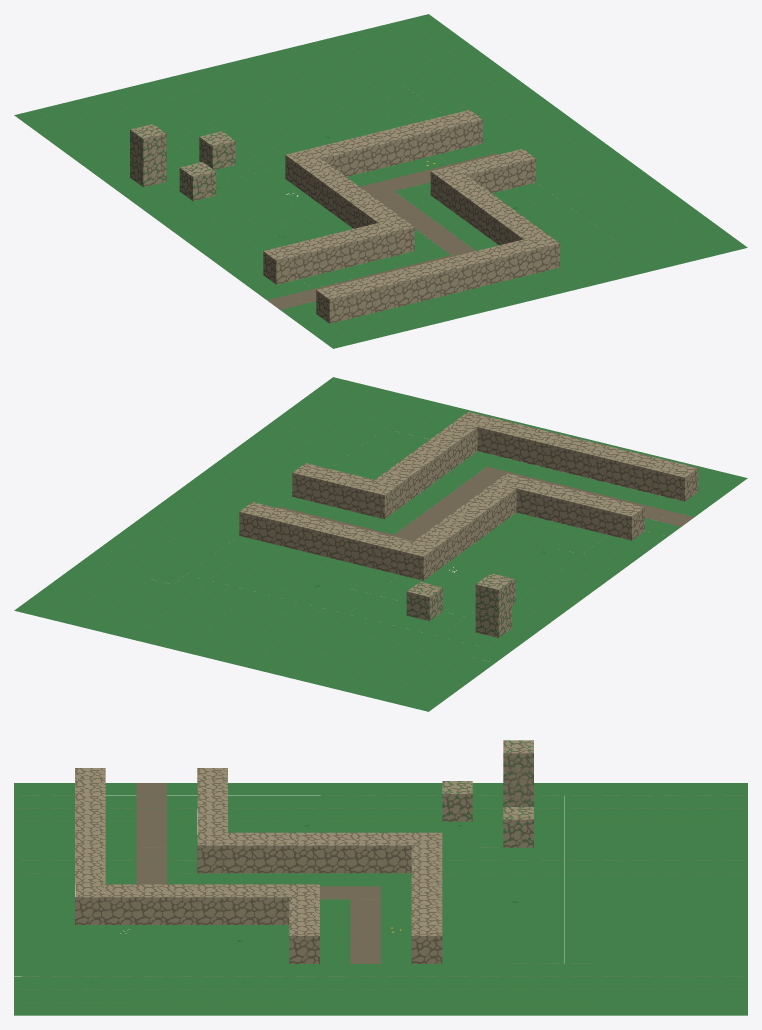
The model's file is grass-32-32-2.obj.
3 renders of one model, top to bottom at view 1: azimuth 30°, elevation 25°; view 2: azimuth 150°, elevation 25°; view 3: azimuth 270°, elevation 25°, orthographic. The views are drawn at different scales.
Visible parts, largest first — view 1: Default; view 2: Default; view 3: Default.
Part boxes in pixels (x1=…): Default: x1=14, y1=14, x2=747, y2=348; Default: x1=14, y1=377, x2=747, y2=711; Default: x1=14, y1=740, x2=747, y2=1015.
Size of the model in its own units: 36 by 4 by 48.
